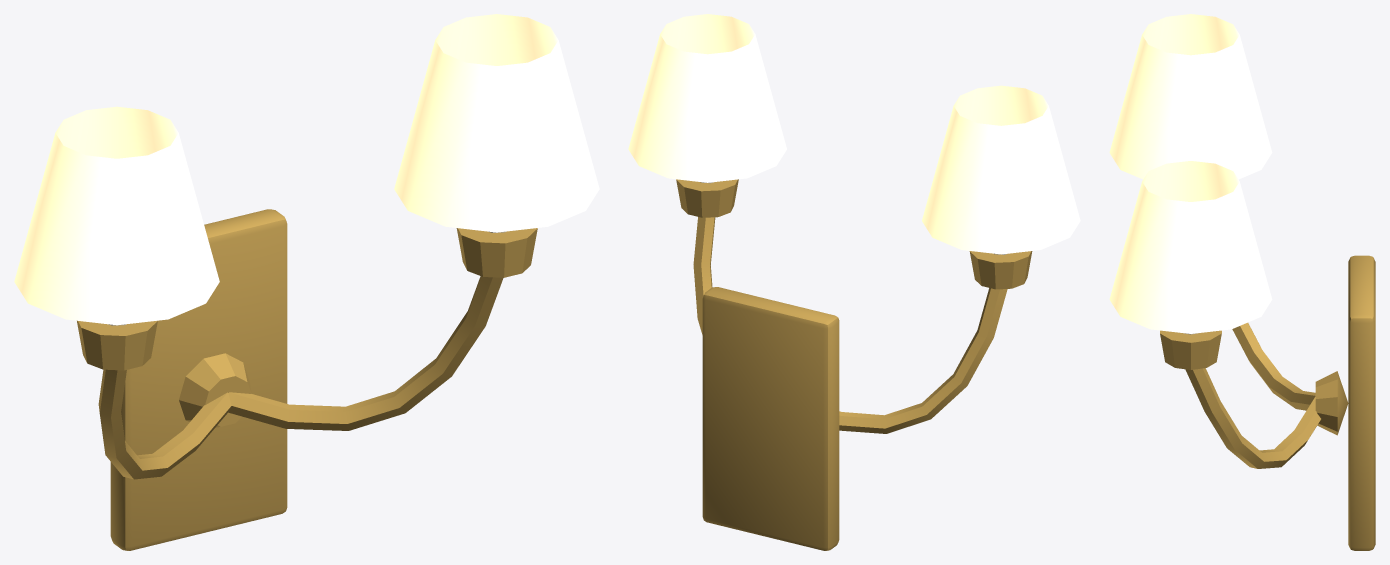
Rendered from wall_sconce.glb.
3 renders of one model, left to right at view 1: azimuth 30°, elevation 25°; view 2: azimuth 150°, elevation 25°; view 3: azimuth 270°, elevation 25°, orthographic. The views are drawn at different scales.
Parts seen in each view (by area): view 1: wall_sconce; view 2: wall_sconce; view 3: wall_sconce.
Boxes of the visible parts, <box> form: wall_sconce: <box>14,14,599,550</box>; wall_sconce: <box>628,14,1080,550</box>; wall_sconce: <box>1109,14,1375,550</box>.
Bounding box in the file's own units: 0.47 × 0.42 × 0.245.
